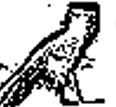Owl: (0, 0, 112, 107)
